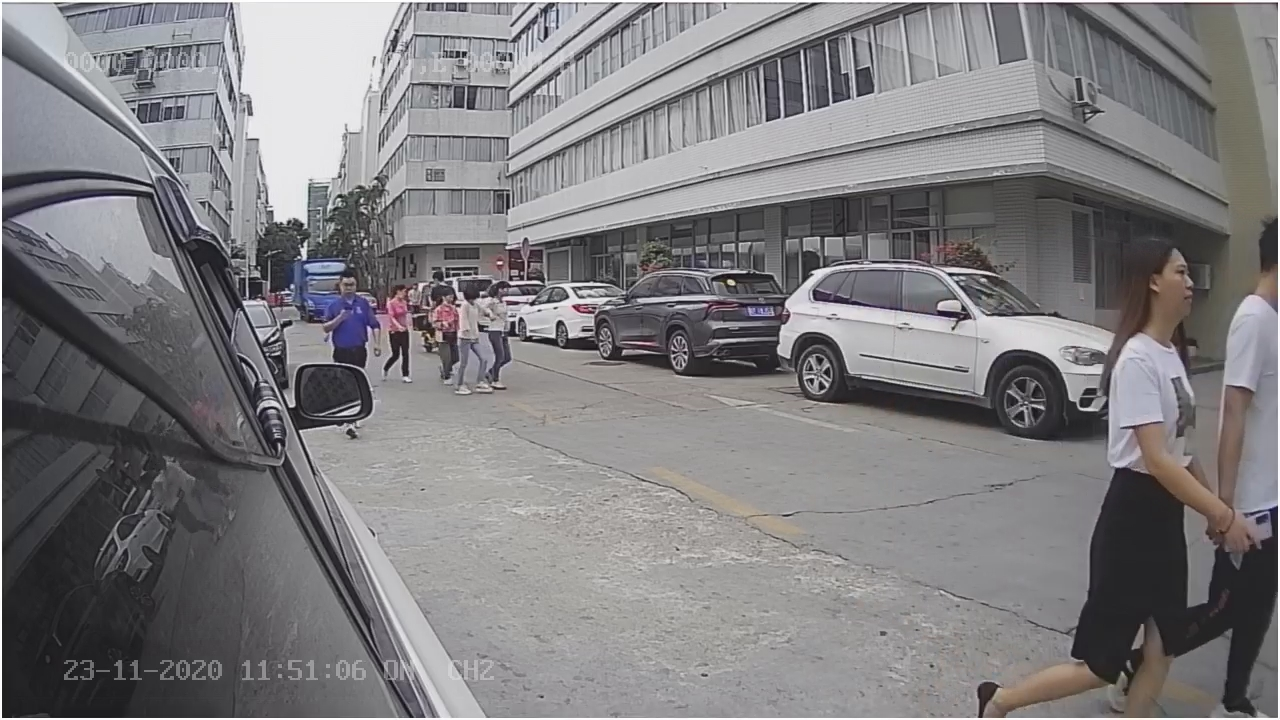person: (1097, 237, 1205, 514)
